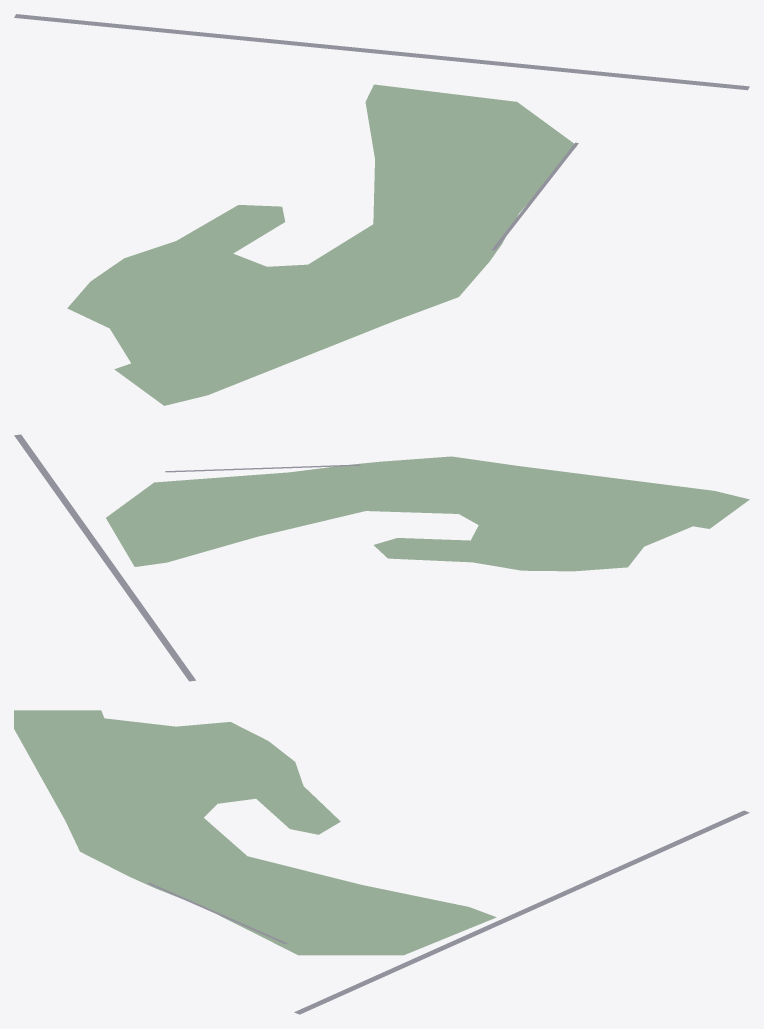
The model's file is 110_84_mid.glb.
3 views of the same model, one above another, from view 1: azimuth 30°, elevation 25°; view 2: azimuth 150°, elevation 25°; view 3: azimuth 270°, elevation 25° (orthographic). The views are drawn at different scales.
Size of the model in its own units: 650 by 13.98 by 634.
